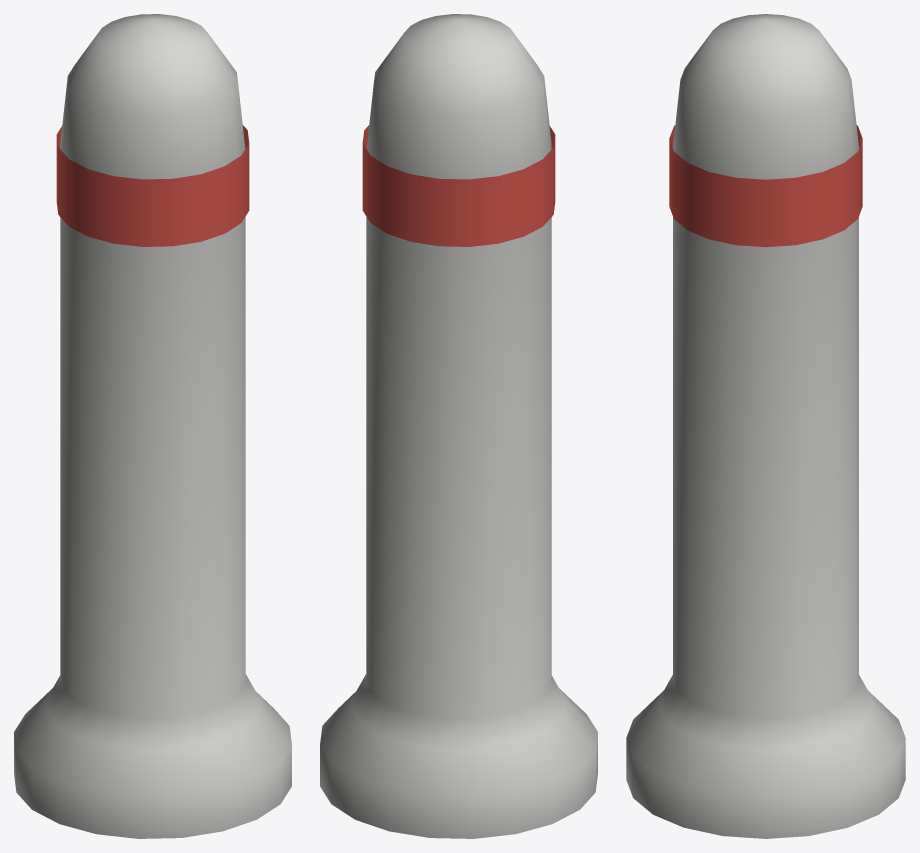
The model's file is Bollard.fbx.
3 renders of one model, left to right at view 1: azimuth 30°, elevation 25°; view 2: azimuth 150°, elevation 25°; view 3: azimuth 270°, elevation 25°, orthographic.
Visible parts, largest first — view 1: Bollard; view 2: Bollard; view 3: Bollard.
Part boxes in pixels (box(x1,y1,x2,y2)): Bollard: box(14, 14, 291, 838); Bollard: box(320, 14, 597, 838); Bollard: box(626, 14, 905, 838).
Bounding box in the file's own units: 0.3 × 0.9 × 0.3.
